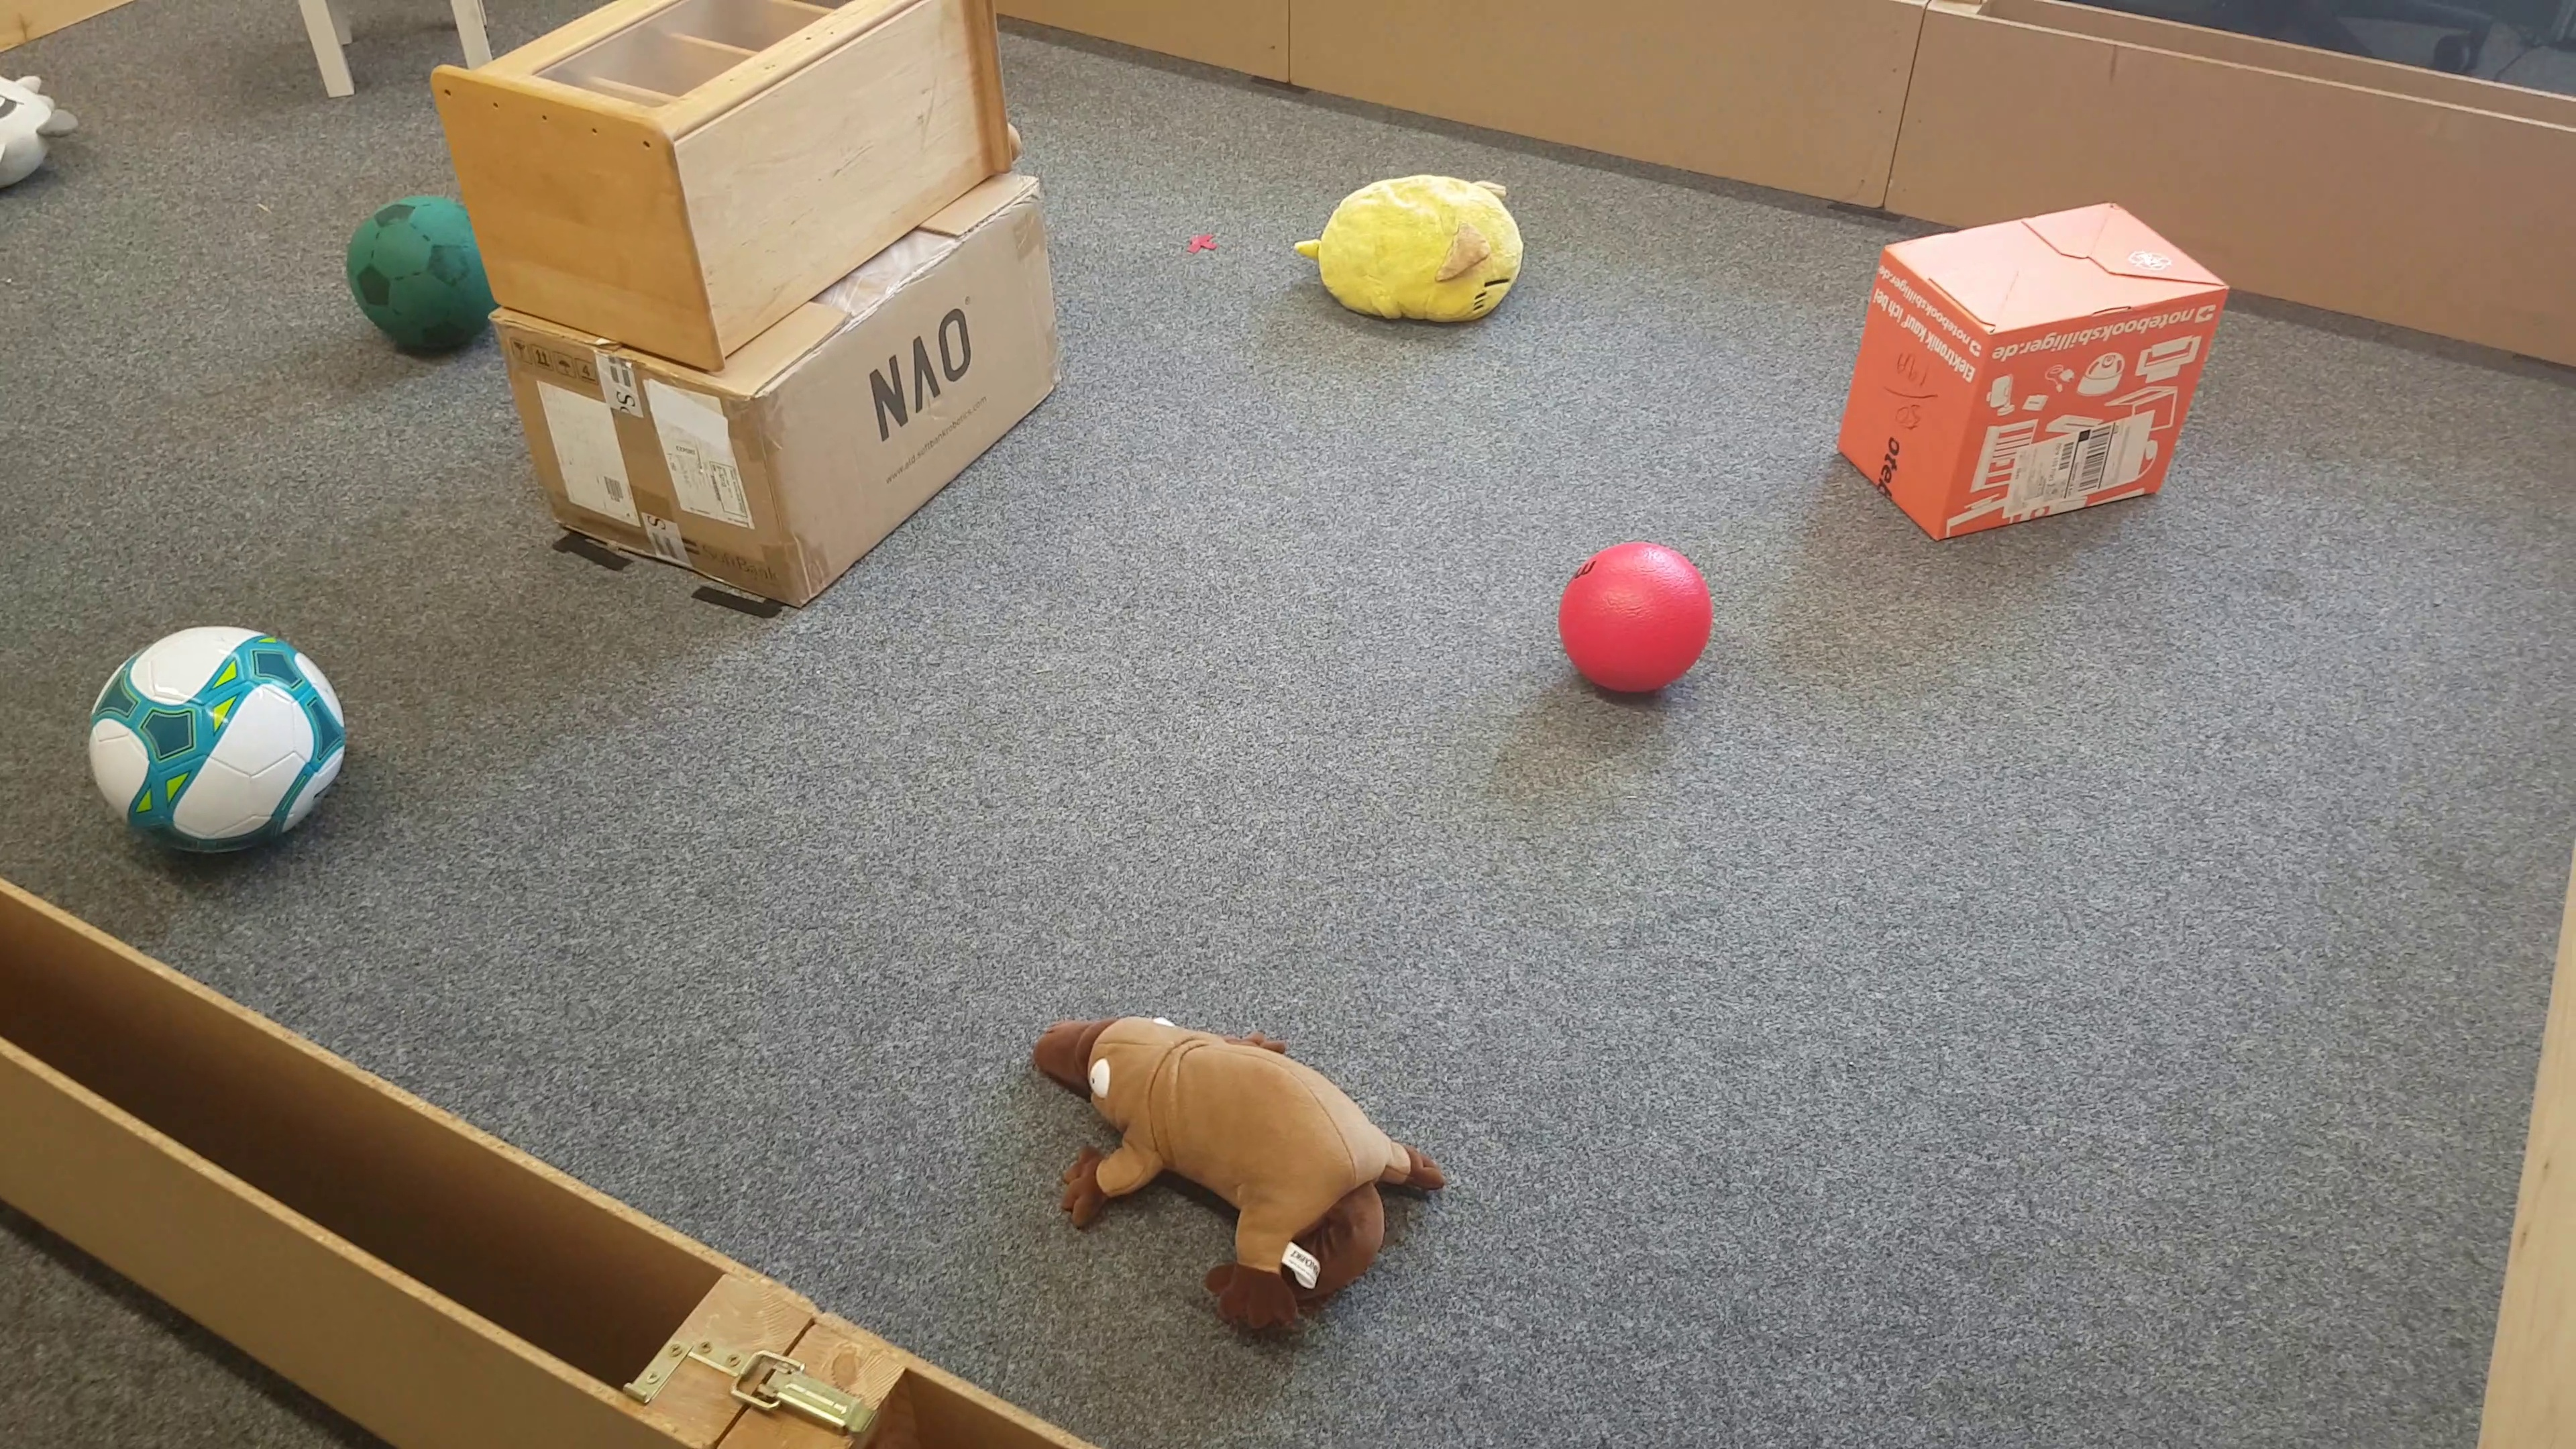grasp: (1030, 1012, 1445, 1339), (1299, 168, 1523, 333), (4, 71, 78, 193)
kick: (87, 621, 349, 853), (1566, 536, 1714, 702), (350, 195, 499, 356)
push: (1836, 195, 2233, 538)
